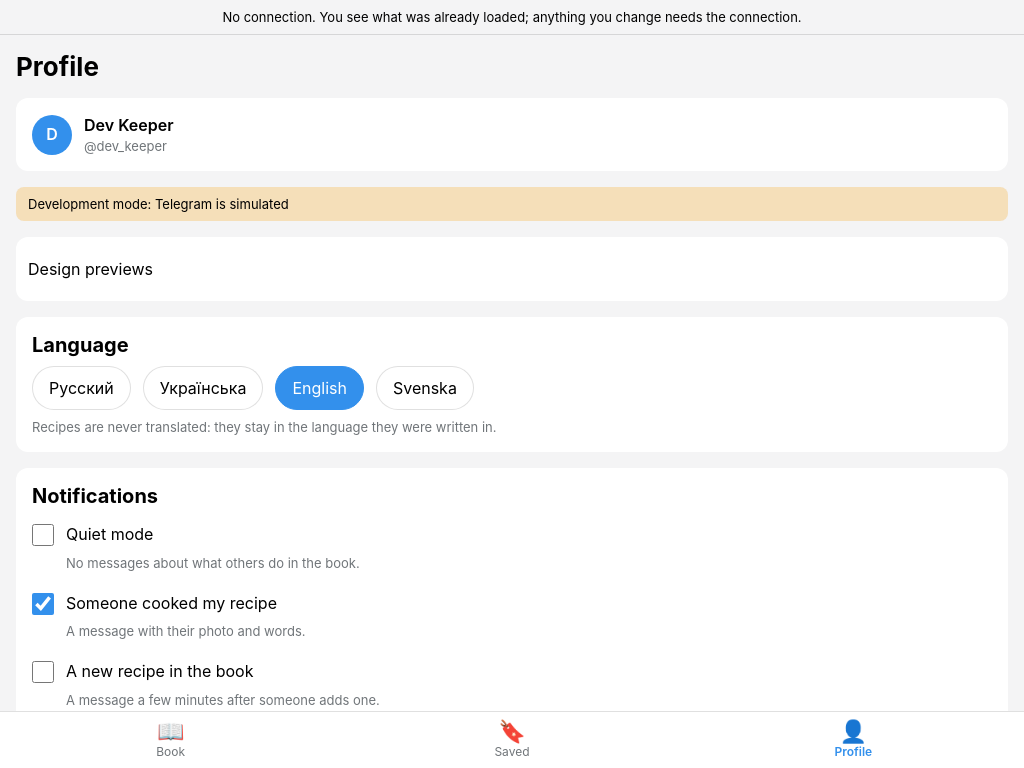
Test: without a connection › a tap that needs the server says at once that there is no connection (and buzzes)
Click the checkbox labelled "A new recipe in the book" at (43,672), box [32,662,54,684]
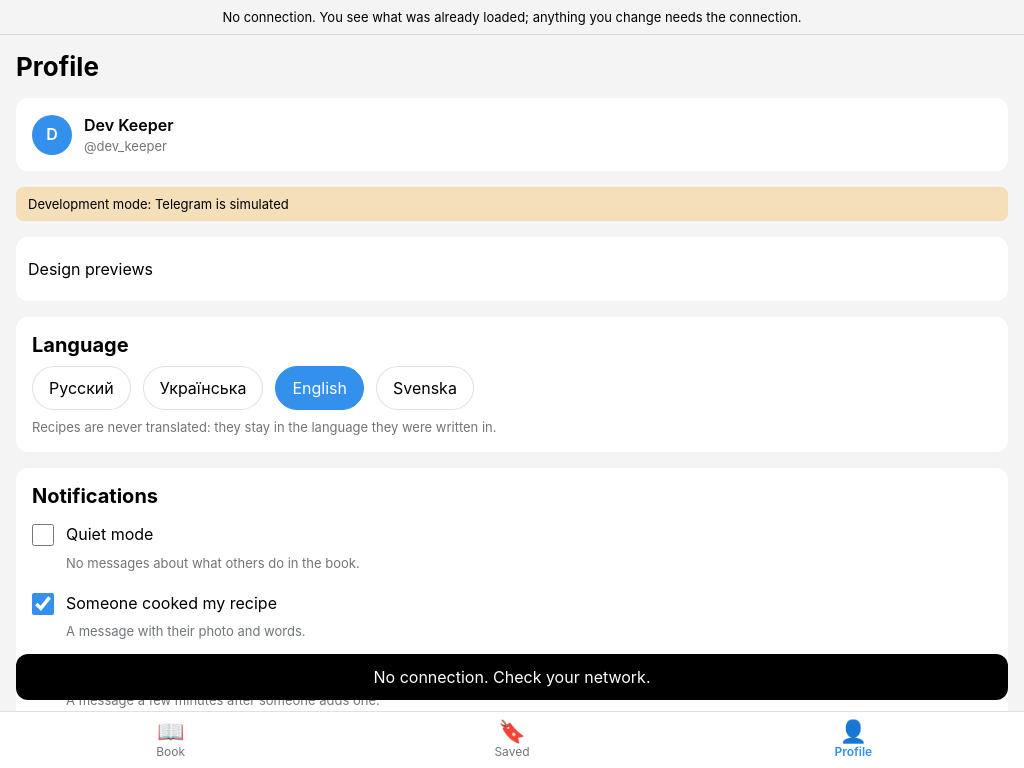
Check: the text "No connection. Check your network." is shown, box [16,654,1008,700]
